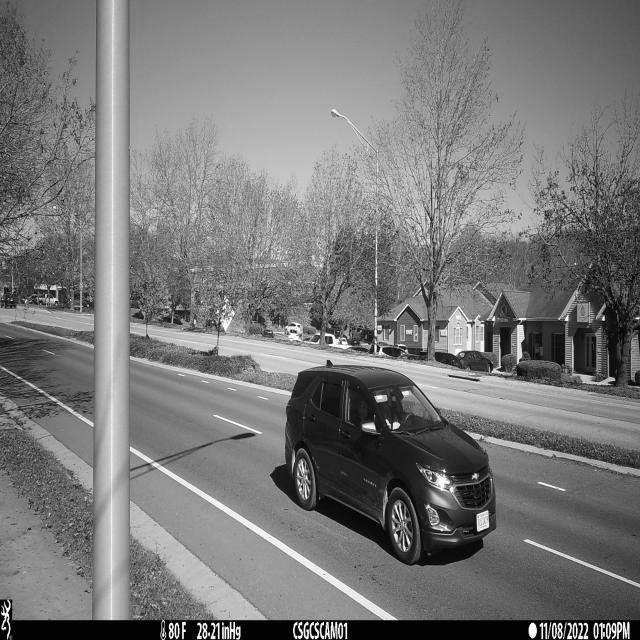SUV: (284, 364, 498, 567)
